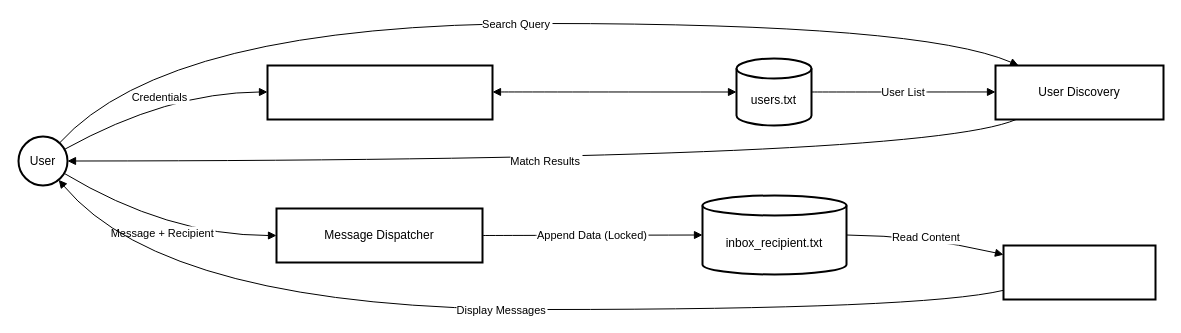
The diagram is 1181 pixels wide and 333 high, and some of its shapes have lost their labels. The centre of each missing label's shape, as x and y in pixels:
Inbox Viewer: pixel 1079 272
Register/Login Process: pixel 379 92
